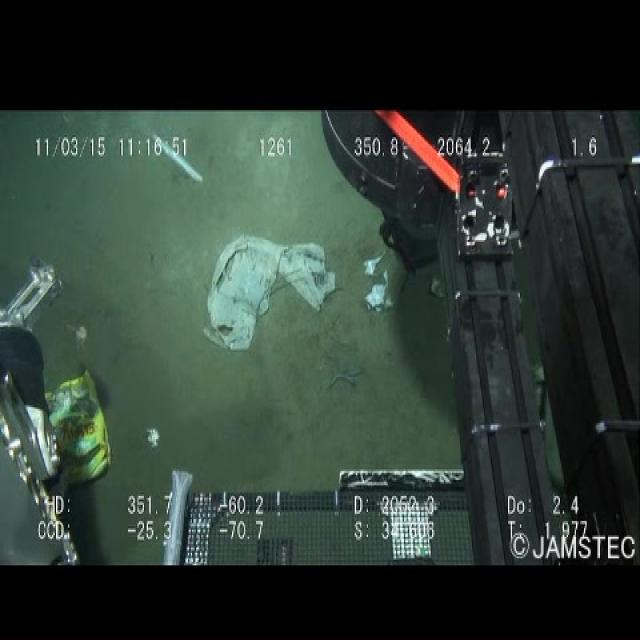plastic: (195, 225, 341, 362), (36, 366, 113, 487)
